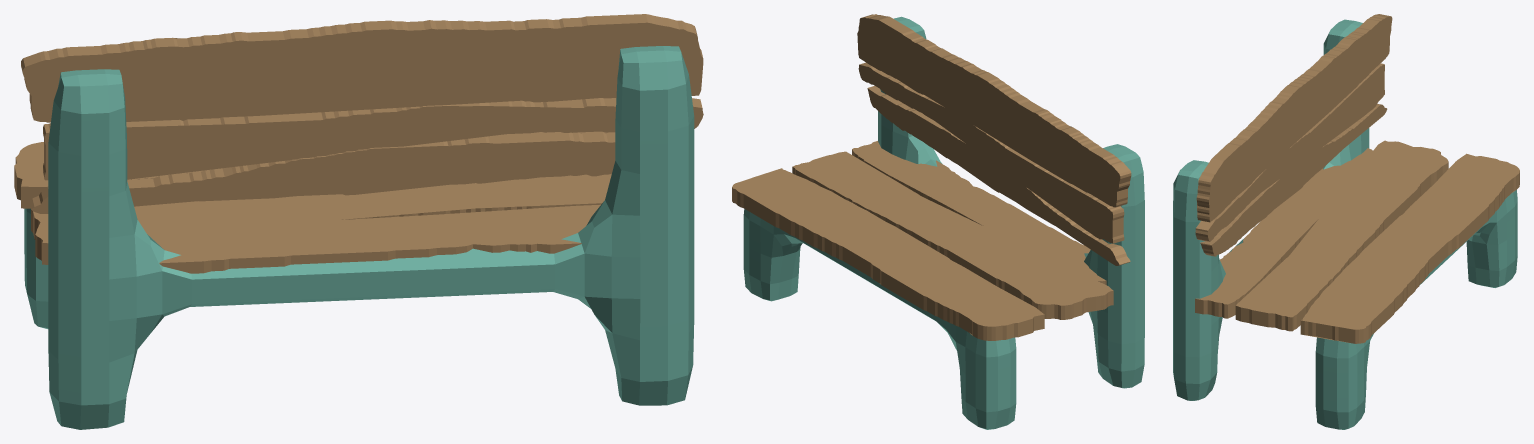
File: Bench_Section-two.fbx
3 views of the same model, side by side, from view 1: azimuth 30°, elevation 25°; view 2: azimuth 150°, elevation 25°; view 3: azimuth 270°, elevation 25° (orthographic). The views are drawn at different scales.
Parts seen in each view (by area): view 1: Plane.586, Cube.071; view 2: Plane.586, Cube.071; view 3: Plane.586, Cube.071.
Boxes of the visible parts, bbox=[...] form: Plane.586: bbox=[14, 14, 703, 273]; Cube.071: bbox=[24, 46, 694, 429]; Plane.586: bbox=[732, 14, 1131, 340]; Cube.071: bbox=[743, 16, 1144, 429]; Plane.586: bbox=[1195, 14, 1519, 343]; Cube.071: bbox=[1173, 19, 1517, 429].
Bounding box in the file's own units: 224 × 130 × 167.
